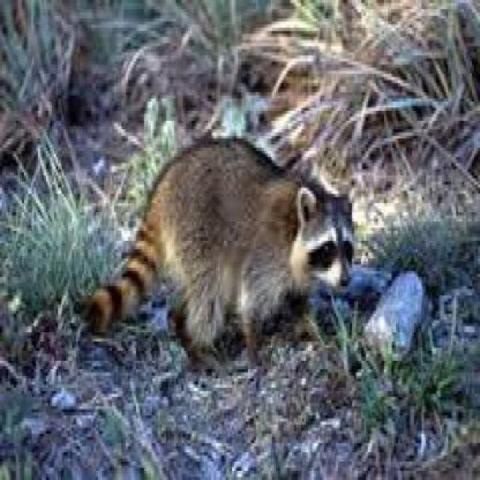small_animal: (83, 132, 357, 364)
